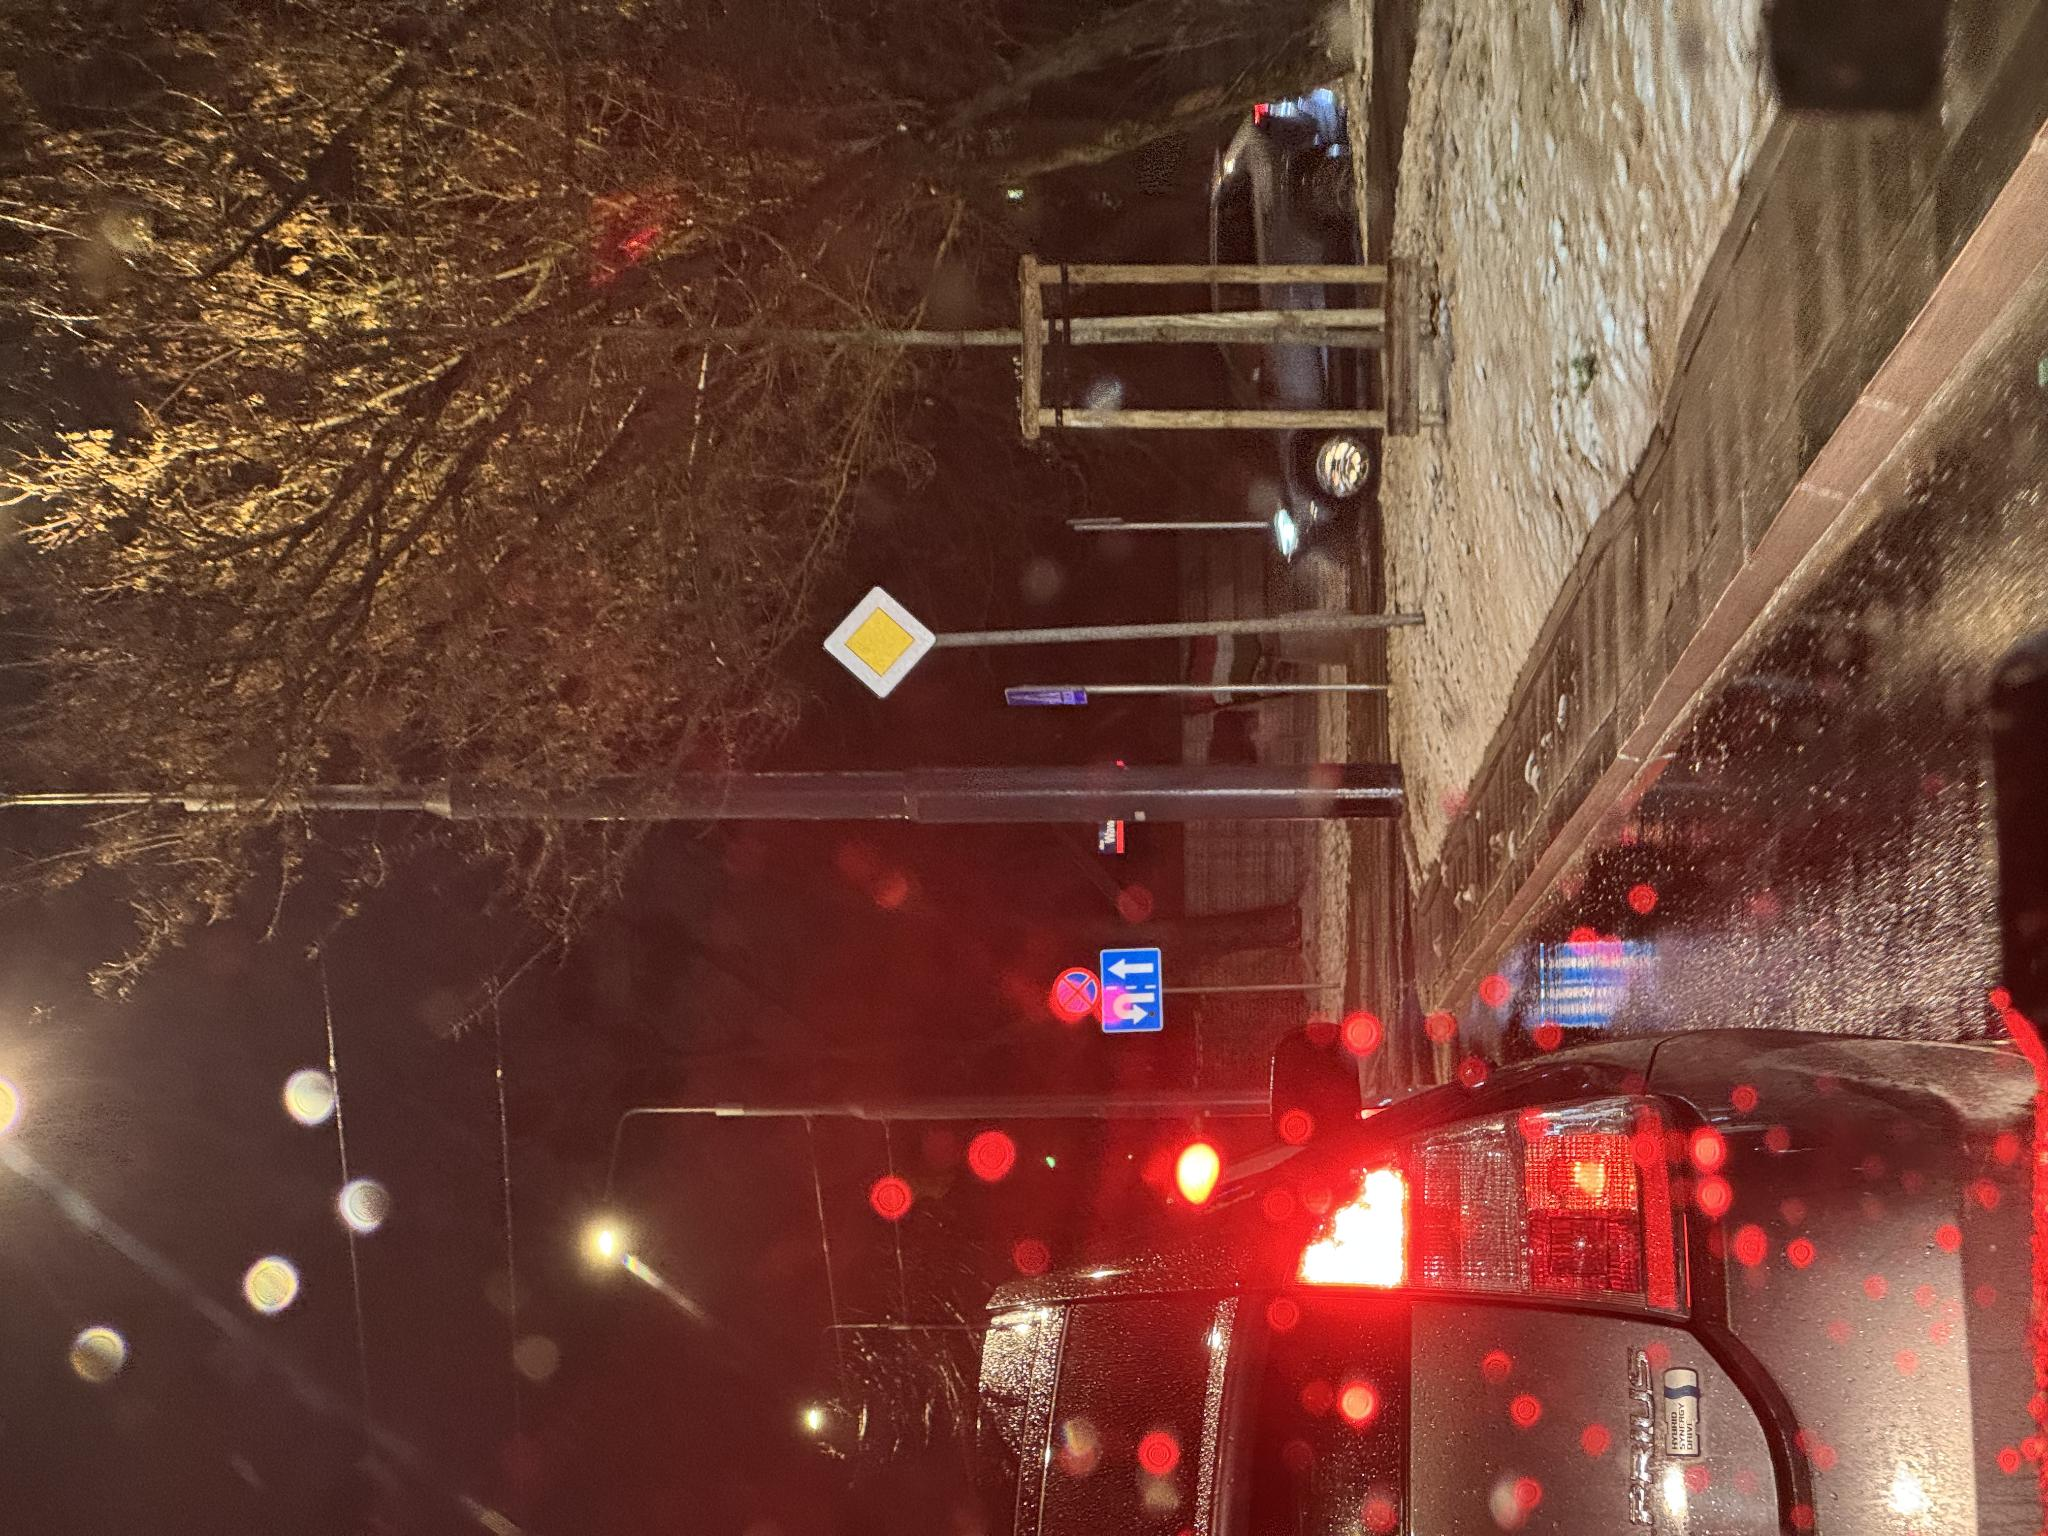information: (837, 820, 951, 937), (829, 1005, 851, 1089)
other: (505, 1102, 589, 1163)
prohibitory: (521, 1052, 571, 1099)
